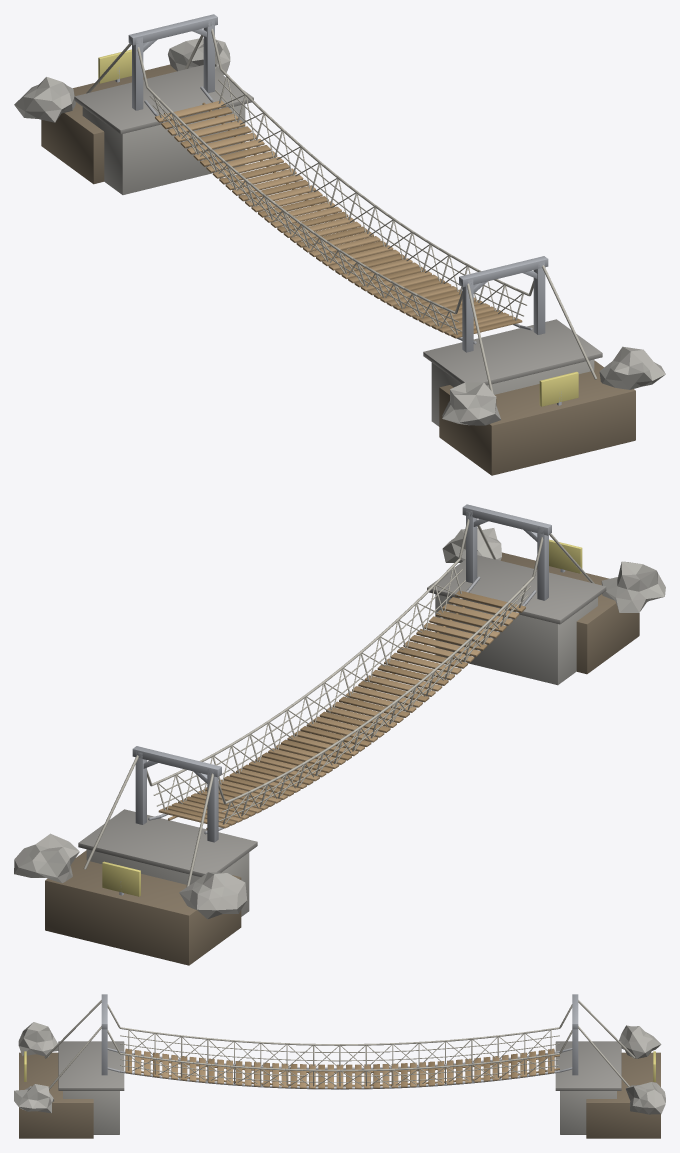
The model's file is th26_haengebruecke.glb.
The picture shows the model from 3 angles, top to bottom: view 1: azimuth 30°, elevation 25°; view 2: azimuth 150°, elevation 25°; view 3: azimuth 270°, elevation 25°; orthographic projection. The views are drawn at different scales.
Parts seen in each view (by area): view 1: Cube.002, Cube.001, Cube.010, Cube.011, Cube.012, Brocken, Brocken.001, Brocken.002, Cube, Brocken.003, Cube.008, Cube.005 (+6 smaller); view 2: Cube.012, Cube.011, Cube, Cube.001, Cube.002, Brocken.002, Brocken, Brocken.003, Cube.010, Brocken.001, Cube.015, Cube.005 (+6 smaller); view 3: Cube.002, Cube.012, Cube.001, Cube.011, Cube, Cube.010, Brocken.003, Brocken, Brocken.002, Brocken.001, Cube.004, Cube.014 (+2 smaller).
Part boxes in pixels (left/top/right/bottom): Cube.002: left=439, top=360, right=635, bottom=475; Cube.001: left=423, top=319, right=602, bottom=385; Cube.010: left=82, top=104, right=245, bottom=194; Cube.011: left=74, top=65, right=253, bottom=134; Cube.012: left=41, top=64, right=176, bottom=184; Brocken: left=442, top=382, right=501, bottom=425; Brocken.001: left=599, top=346, right=665, bottom=389; Brocken.002: left=14, top=77, right=75, bottom=122; Cube: left=431, top=359, right=594, bottom=426; Brocken.003: left=168, top=38, right=230, bottom=75; Cube.008: left=539, top=371, right=578, bottom=406; Cube.005: left=459, top=256, right=548, bottom=287; Cube.012: left=45, top=850, right=241, bottom=965; Cube.011: left=78, top=809, right=257, bottom=876; Cube: left=435, top=594, right=597, bottom=685; Cube.001: left=427, top=555, right=606, bottom=624; Cube.002: left=500, top=552, right=639, bottom=674; Brocken.002: left=179, top=872, right=247, bottom=919; Brocken: left=601, top=561, right=665, bottom=612; Brocken.003: left=14, top=833, right=79, bottom=883; Cube.010: left=86, top=849, right=249, bottom=916; Brocken.001: left=442, top=528, right=501, bottom=562; Cube.015: left=132, top=746, right=221, bottom=777; Cube.005: left=462, top=504, right=551, bottom=535; Cube.002: left=19, top=1052, right=93, bottom=1138; Cube.012: left=586, top=1052, right=660, bottom=1138; Cube.001: left=58, top=1041, right=124, bottom=1090; Cube.011: left=555, top=1041, right=621, bottom=1090; Cube: left=63, top=1091, right=119, bottom=1134; Cube.010: left=560, top=1091, right=616, bottom=1134; Brocken.003: left=625, top=1082, right=665, bottom=1114; Brocken: left=18, top=1022, right=58, bottom=1057; Brocken.002: left=619, top=1025, right=661, bottom=1058; Brocken.001: left=14, top=1084, right=53, bottom=1113; Cube.004: left=101, top=1029, right=107, bottom=1075; Cube.014: left=572, top=1029, right=578, bottom=1075.
Bounding box in the file's own units: 8.1 × 5.24 × 29.64.
